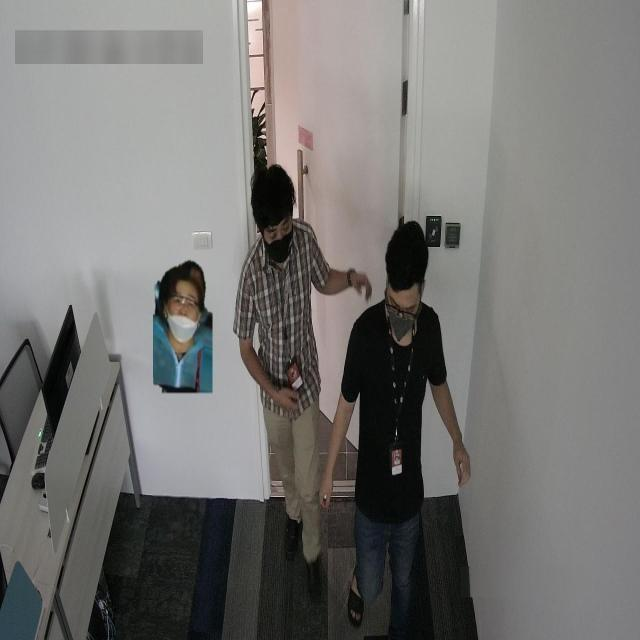hairnet: (166, 286, 198, 341)
